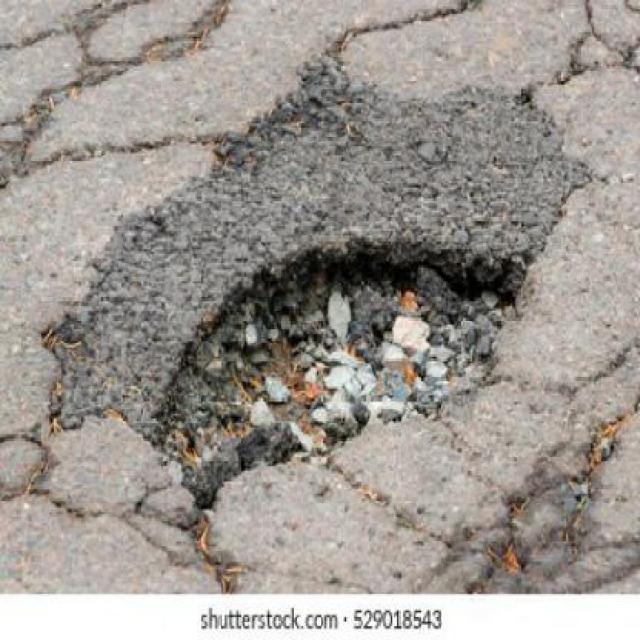Buraco: (147, 232, 540, 520)
